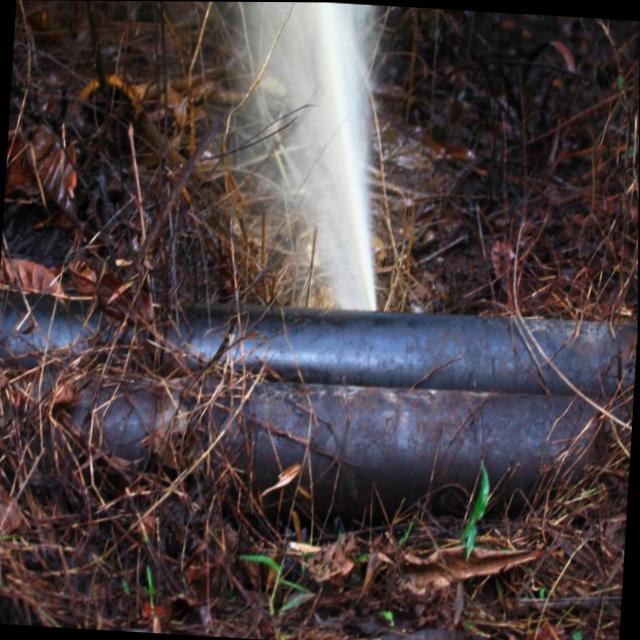leak: (238, 2, 376, 310)
